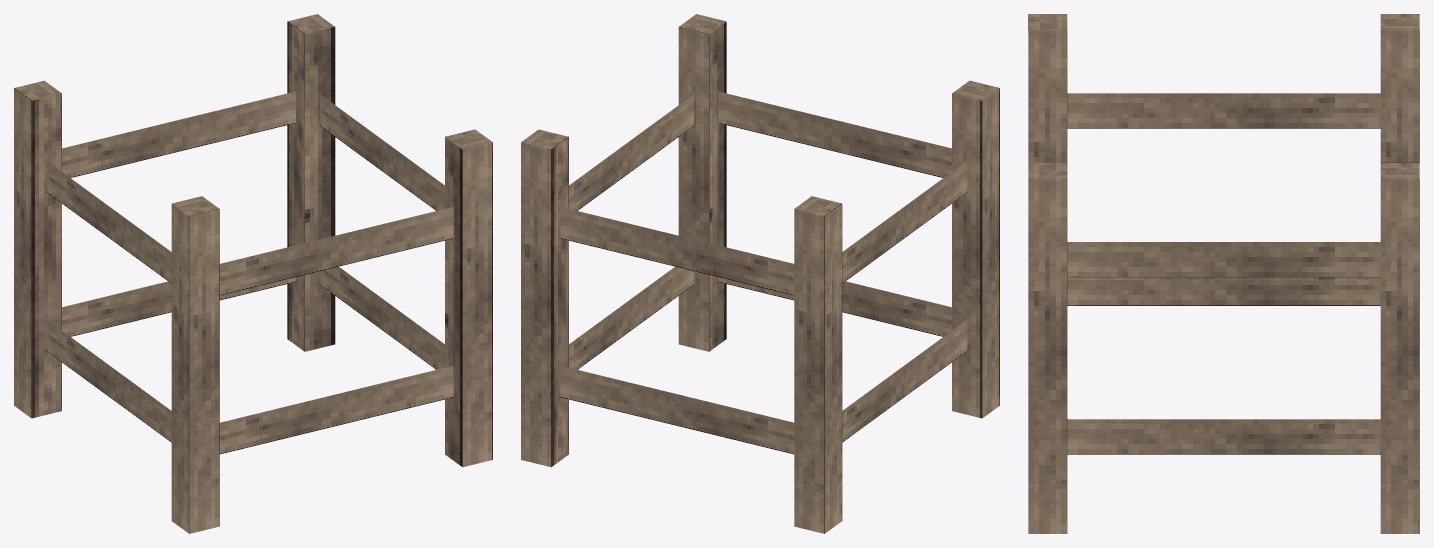
Rendered from structure_lev1.glb.
3 renders of one model, left to right at view 1: azimuth 30°, elevation 25°; view 2: azimuth 150°, elevation 25°; view 3: azimuth 270°, elevation 25°, orthographic. The views are drawn at different scales.
Parts seen in each view (by area): view 1: structure_lev1; view 2: structure_lev1; view 3: structure_lev1.
Part boxes in pixels (x1,y1,x2,y2): structure_lev1: [14, 14, 492, 533]; structure_lev1: [521, 14, 999, 533]; structure_lev1: [1028, 14, 1419, 533].
Bounding box in the file's own units: 3.98 × 3.98 × 3.98.
Materials: 1 (1 with a texture image).
